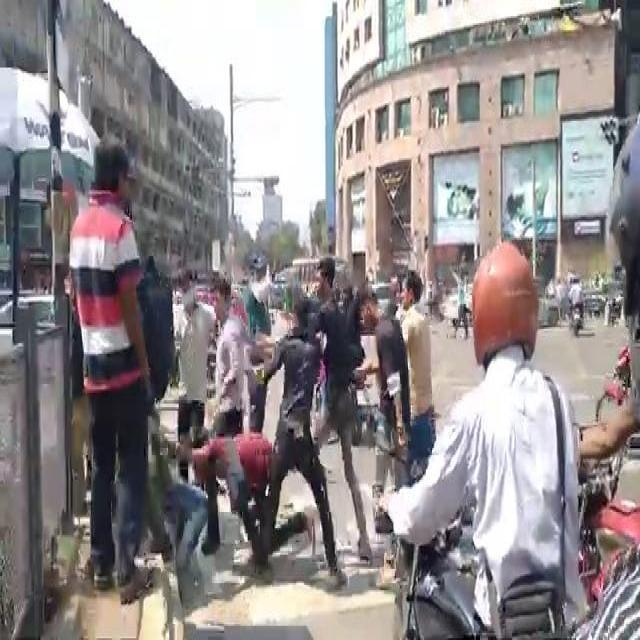fight: (398, 252, 577, 640), (140, 265, 355, 572), (57, 132, 153, 634)
